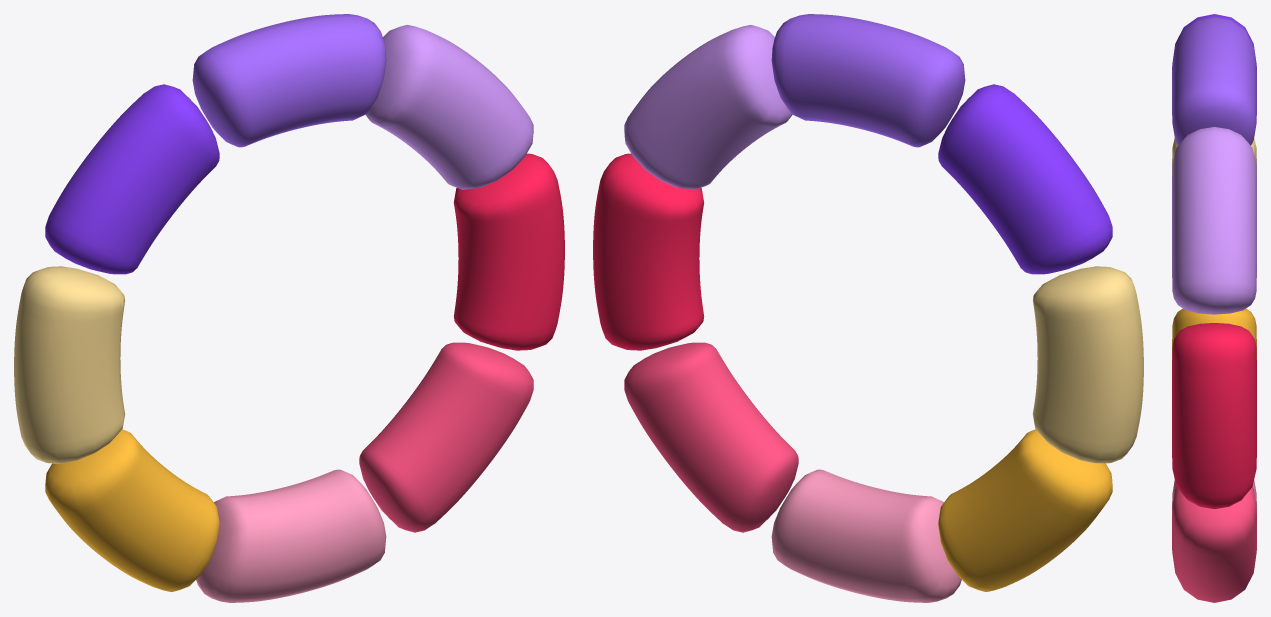
3 renders of one model, left to right at view 1: azimuth 30°, elevation 25°; view 2: azimuth 150°, elevation 25°; view 3: azimuth 270°, elevation 25°, orthographic. The views are drawn at different scales.
Visible parts, largest first — view 1: 7; view 2: 7; view 3: 7.
Boxes of the visible parts, x1=… form: 7: x1=14, y1=14, x2=564, y2=602; 7: x1=593, y1=14, x2=1143, y2=602; 7: x1=1172, y1=14, x2=1256, y2=602.
Bounding box in the file's own units: 8.38 × 8.38 × 1.21.
